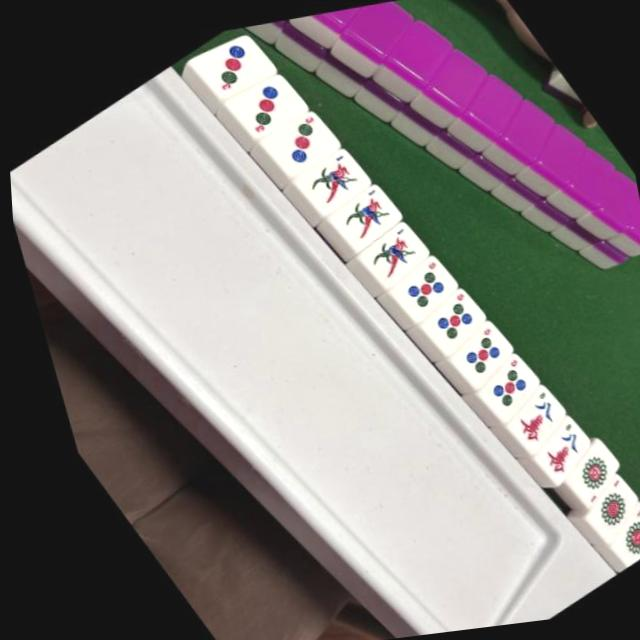sb1: (287, 140, 370, 212), (350, 216, 427, 284), (322, 177, 399, 244)
sc8: (509, 414, 586, 482), (484, 381, 561, 448)
sd1: (546, 441, 615, 502), (562, 473, 630, 533), (584, 504, 640, 566)
sd3: (189, 22, 278, 97), (221, 63, 309, 137), (258, 102, 342, 174)
sd5: (379, 252, 453, 316), (408, 284, 482, 348), (460, 350, 532, 412), (435, 320, 506, 380)
